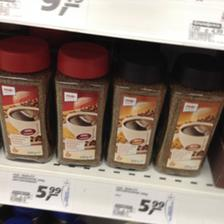Kaffee: (157, 50, 223, 176), (106, 46, 166, 170), (53, 38, 111, 166), (0, 34, 54, 164)
